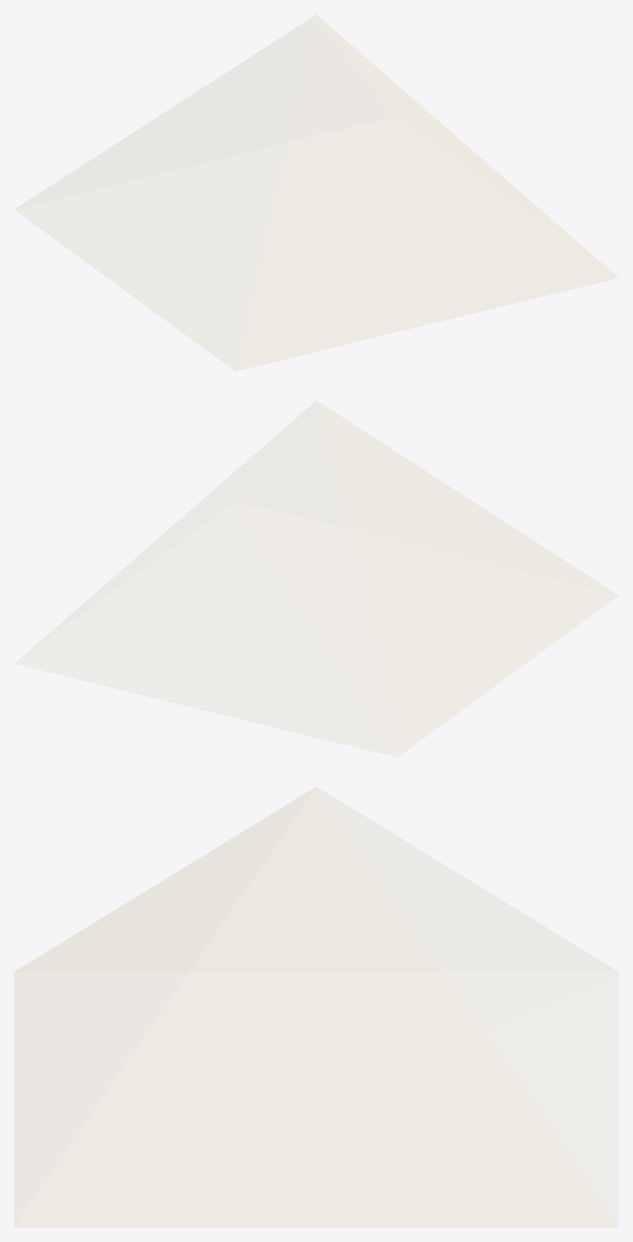
The model's file is pyramid_amber.glb.
3 renders of one model, top to bottom at view 1: azimuth 30°, elevation 25°; view 2: azimuth 150°, elevation 25°; view 3: azimuth 270°, elevation 25°, orthographic. The views are drawn at different scales.
Bounding box in the file's own units: 1.4 × 0.8 × 1.4.
